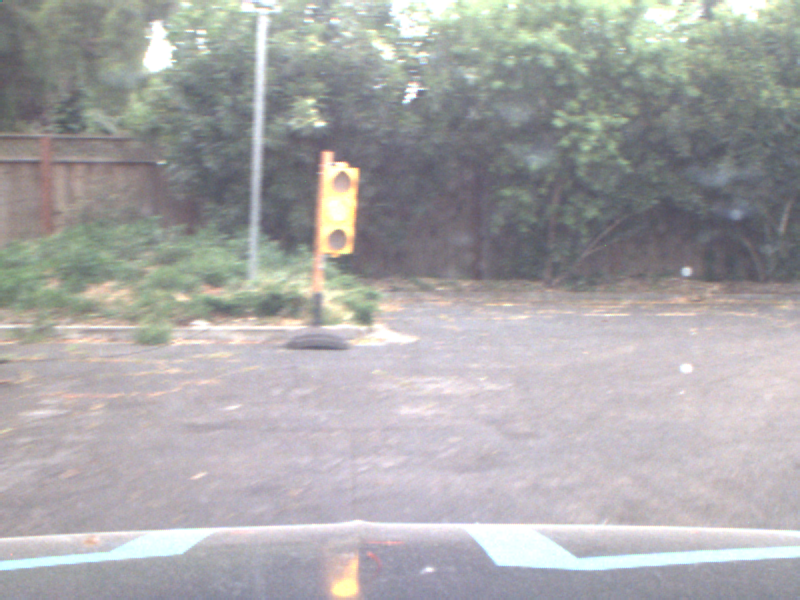Yellow: (320, 161, 355, 254)
